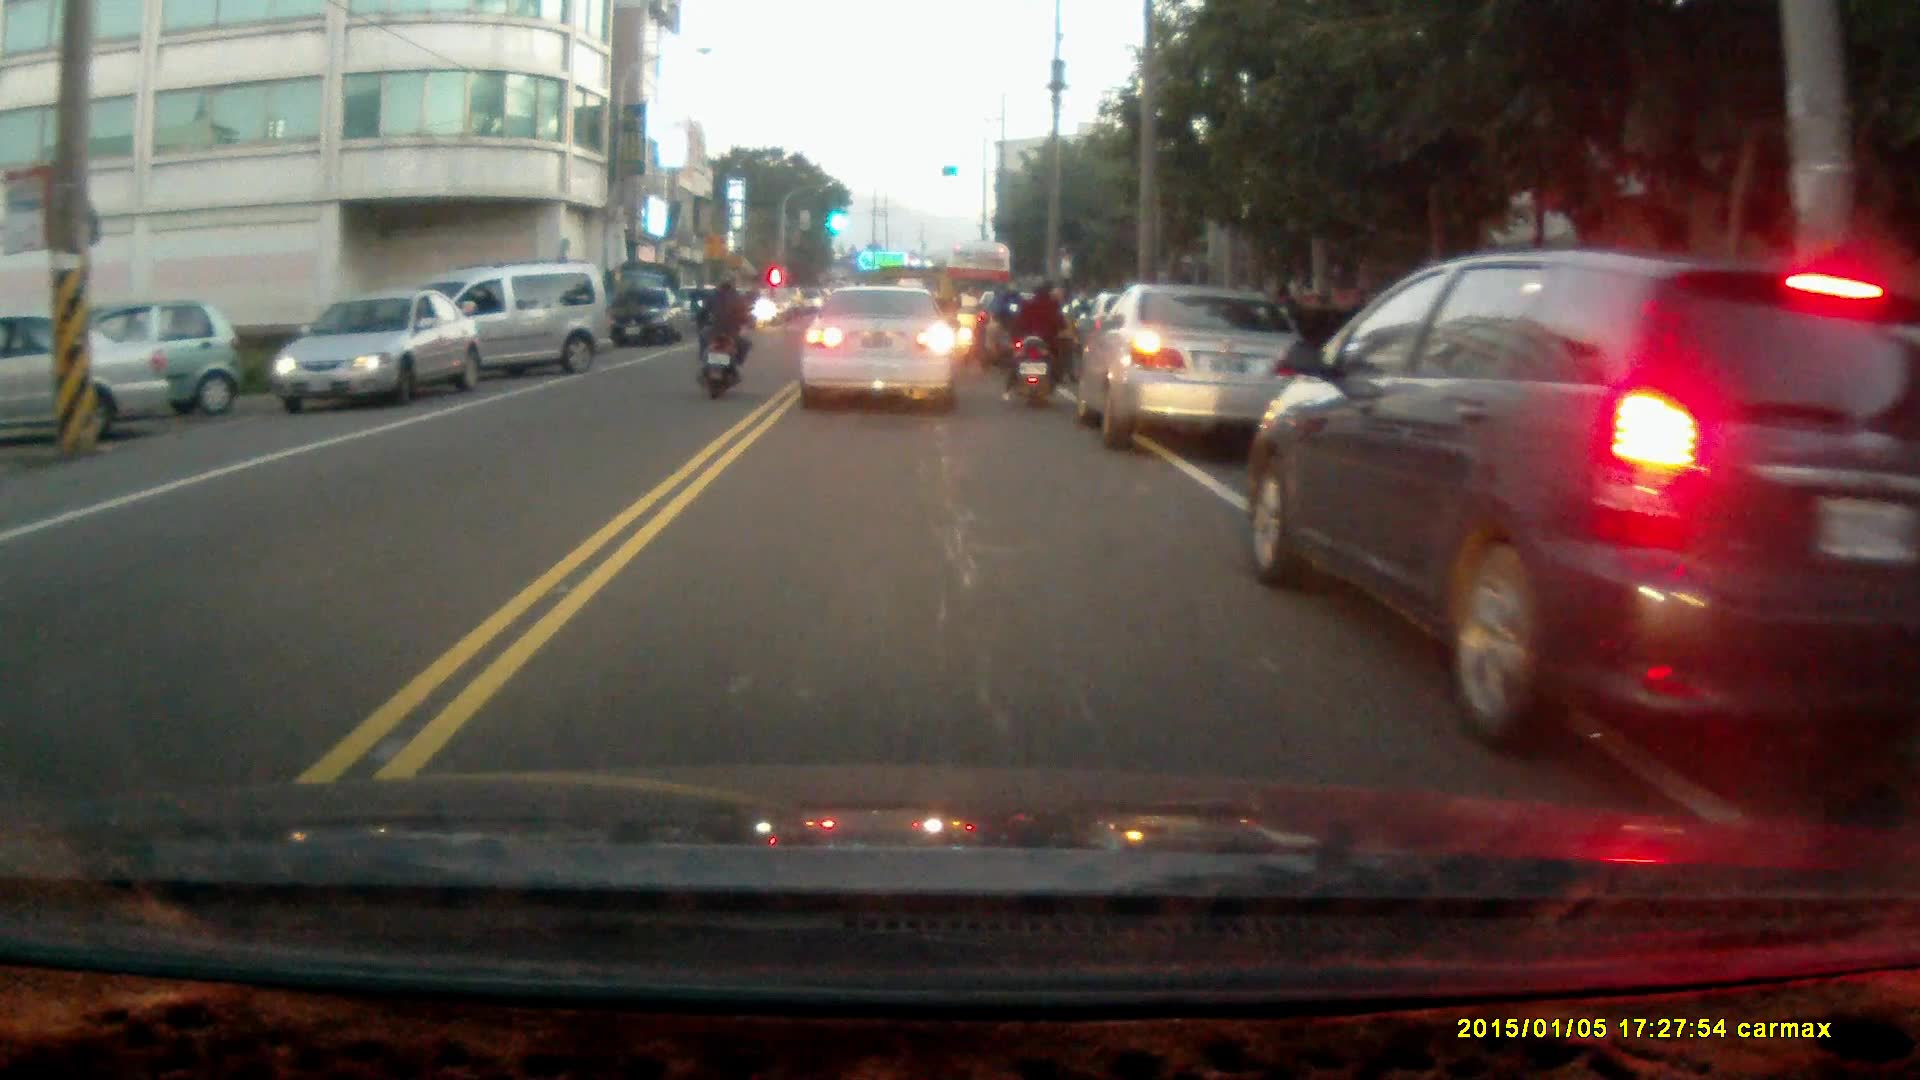rider: (1002, 269, 1072, 408), (692, 272, 752, 395), (975, 274, 1025, 375)
vehicle: (1243, 241, 1908, 771), (1070, 278, 1318, 445), (369, 259, 609, 391), (8, 296, 234, 420), (266, 289, 480, 411), (1, 313, 171, 444), (797, 285, 962, 408), (602, 285, 680, 348)
